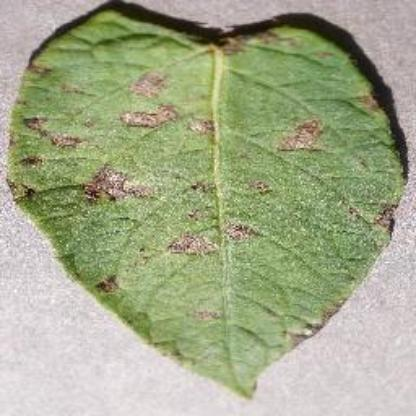Early-Blight: (6, 6, 414, 400)
